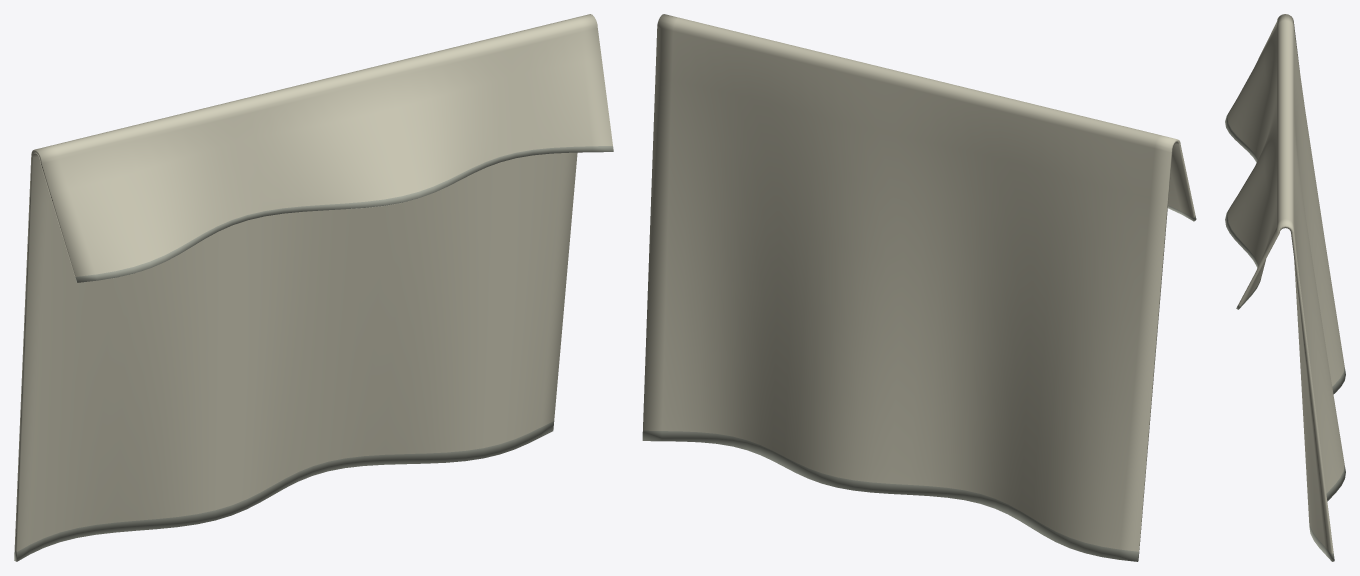
The model's file is d03_laundry_frames_03_sheet.glb.
3 renders of one model, left to right at view 1: azimuth 30°, elevation 25°; view 2: azimuth 150°, elevation 25°; view 3: azimuth 270°, elevation 25°, orthographic. The views are drawn at different scales.
Visible parts, largest first — view 1: D03LaundryFrames03Sheet_Mesh; view 2: D03LaundryFrames03Sheet_Mesh; view 3: D03LaundryFrames03Sheet_Mesh.
Boxes of the visible parts, bbox=[...] form: D03LaundryFrames03Sheet_Mesh: bbox=[14, 14, 613, 561]; D03LaundryFrames03Sheet_Mesh: bbox=[642, 14, 1196, 561]; D03LaundryFrames03Sheet_Mesh: bbox=[1225, 14, 1345, 561].
Size of the model in its own units: 1.42 by 1.06 by 0.3433.
